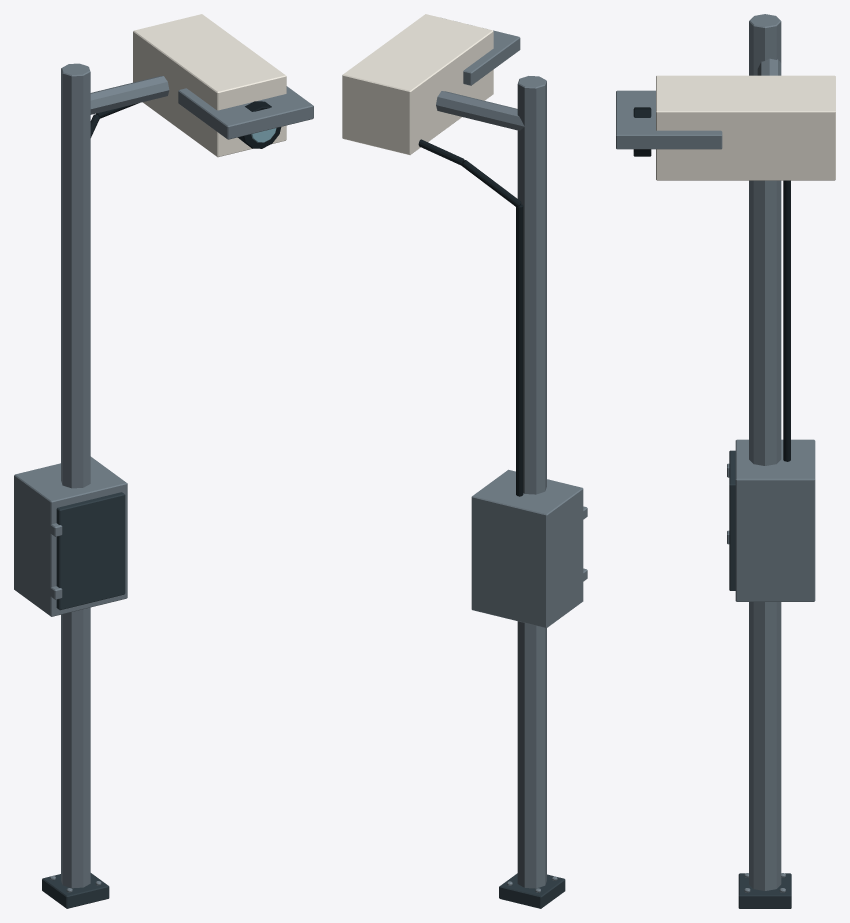
Rendered from b02_traffic_camera_pole.glb.
3 renders of one model, left to right at view 1: azimuth 30°, elevation 25°; view 2: azimuth 150°, elevation 25°; view 3: azimuth 270°, elevation 25°, orthographic. The views are drawn at different scales.
Parts seen in each view (by area): view 1: b02_traffic_camera_pole; view 2: b02_traffic_camera_pole; view 3: b02_traffic_camera_pole.
Part boxes in pixels (x1,y1,x2,y2): b02_traffic_camera_pole: [14, 14, 313, 908]; b02_traffic_camera_pole: [342, 14, 587, 908]; b02_traffic_camera_pole: [616, 14, 835, 908].
Size of the model in its own units: 0.861 by 3.28 by 0.745.
